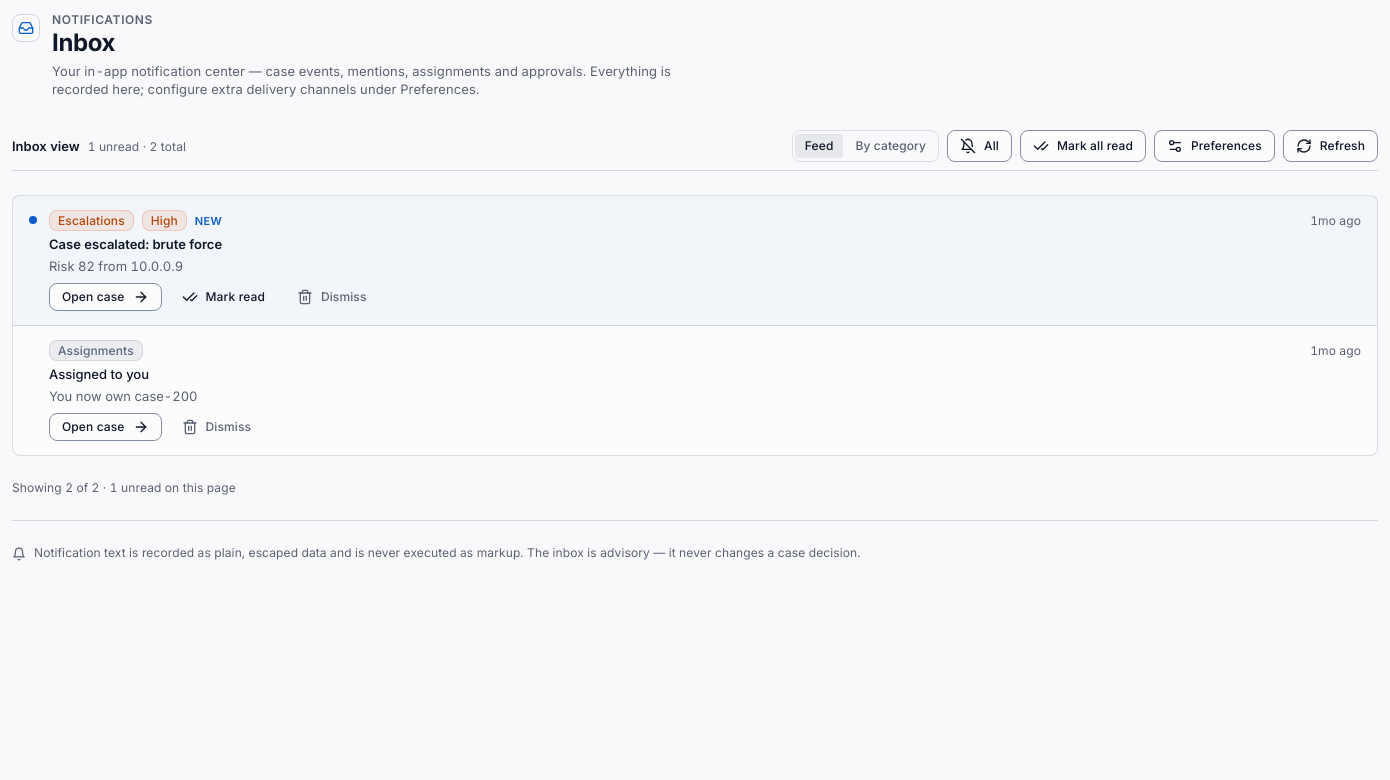
it: Inbox page (read-state) › groups by category when toggled
Expected: the text "Case escalated: brute force" is shown, 49,236 -> 222,252
Click the radio button labelled "By category".
click(891, 146)  # box 846,134 -> 936,158
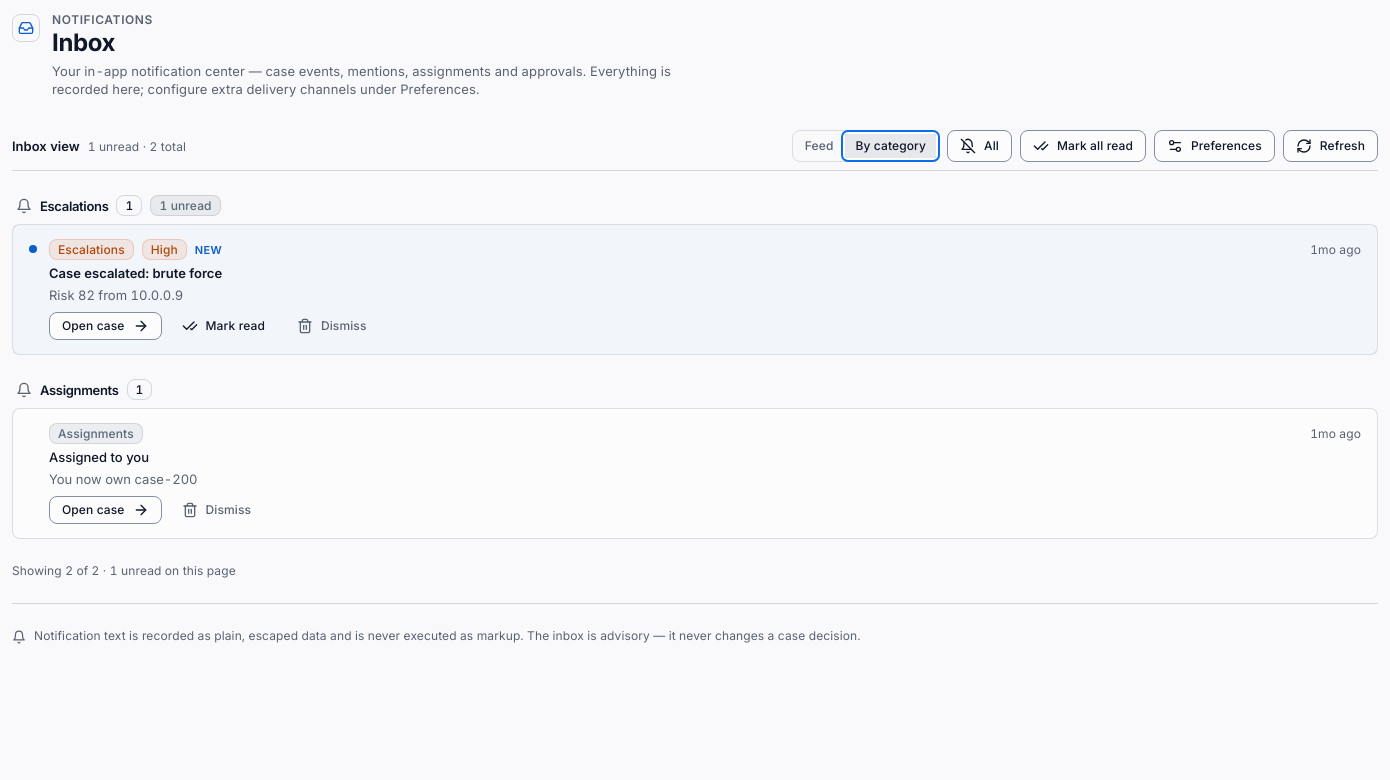
Now the heading "Escalations" is shown, box 40,196 -> 108,214
